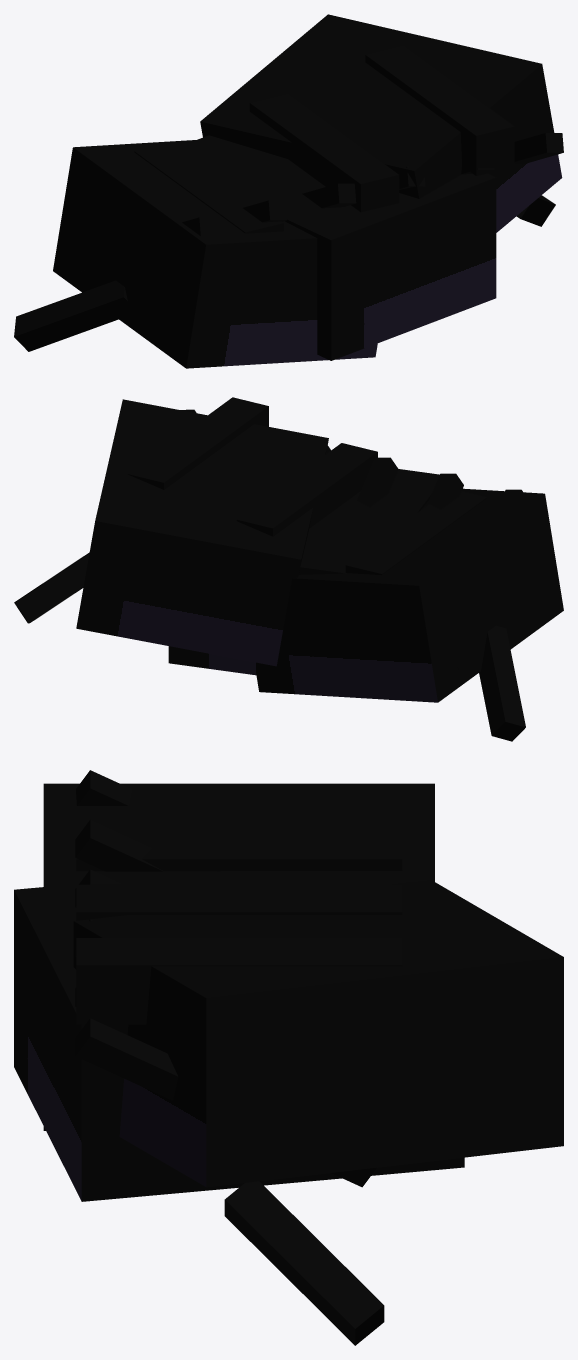
File: infected_tissue.obj
The picture shows the model from 3 angles, top to bottom: view 1: azimuth 30°, elevation 25°; view 2: azimuth 150°, elevation 25°; view 3: azimuth 270°, elevation 25°; orthographic projection. The views are drawn at different scales.
Bounding box in the file's own units: 0.875 × 0.3276 × 0.5235.
